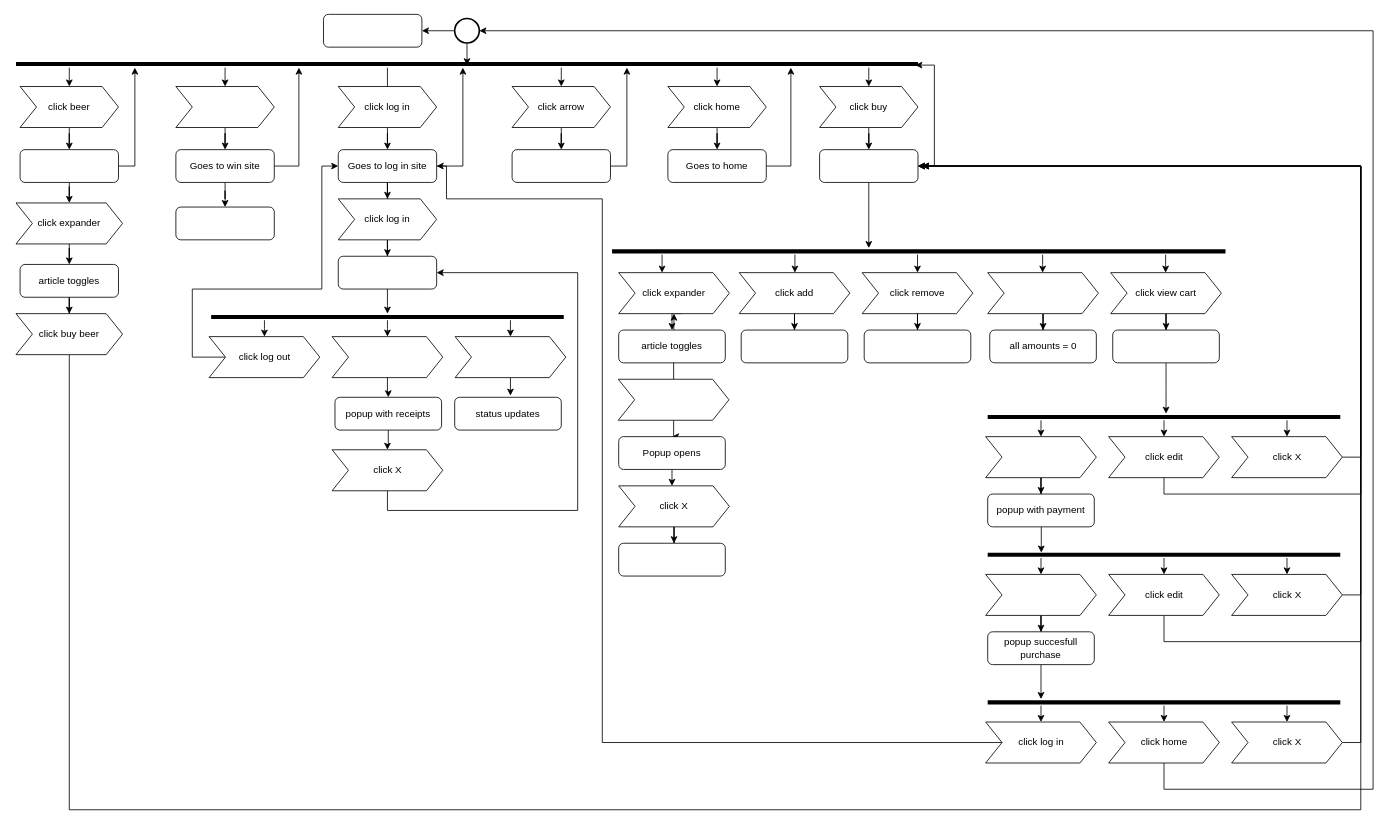
Some shapes in this 1394 by 831 pixel diagram are drawn without their labels. Each missing label, with the centre of its shape:
"click check" goes at pixel 510 357.
"click checkout" goes at pixel 1040 457.
"click pay" goes at pixel 1040 594.
"click read more" goes at pixel 673 399.
"click receipt" goes at pixel 387 357.
"click reset" goes at pixel 1042 293.
"click win" goes at pixel 224 107.
"data updates" goes at pixel 224 223.
"Goes to beer site" goes at pixel 68 165.
"Goes to order site" goes at pixel 868 165.
"menu toggles" goes at pixel 560 165.
"Popup closes" goes at pixel 671 559.
"popup with account" goes at pixel 387 272.
"popup with summary opens" goes at pixel 1165 346.
"updates quantity +1" goes at pixel 794 346.
"updates quantity -1" goes at pixel 917 346.
"updating queue" goes at pixel 372 30.
